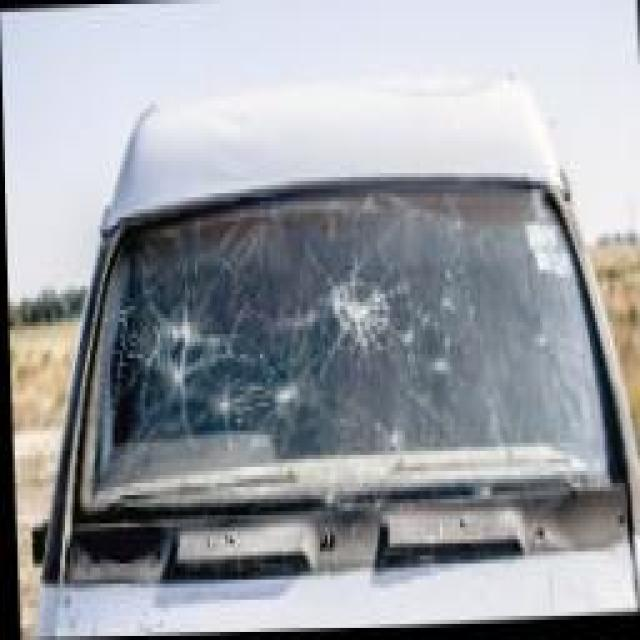Windshield: (78, 173, 620, 550)
